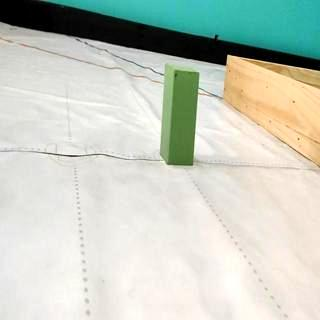greenbox: (160, 61, 198, 166)
